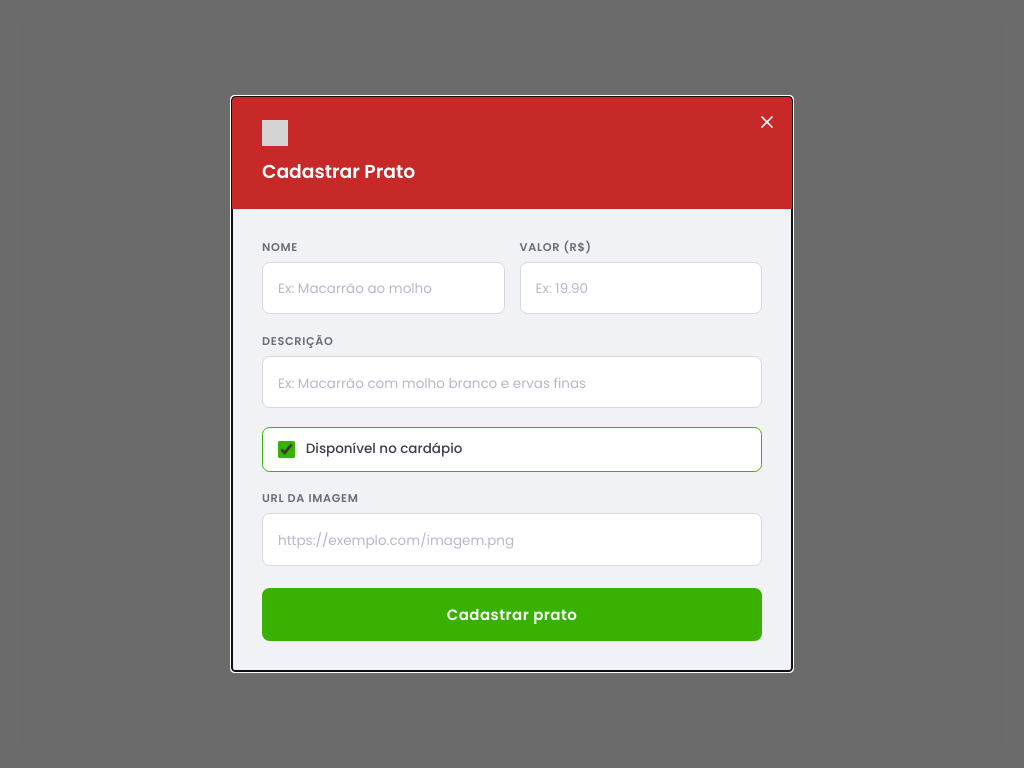
Test case: FoodFormModal — validação › deve exibir erro quando o preço for zero
Type "0" into the number field labelled "Valor (R$)" at (641,288), box [520,262,762,314]
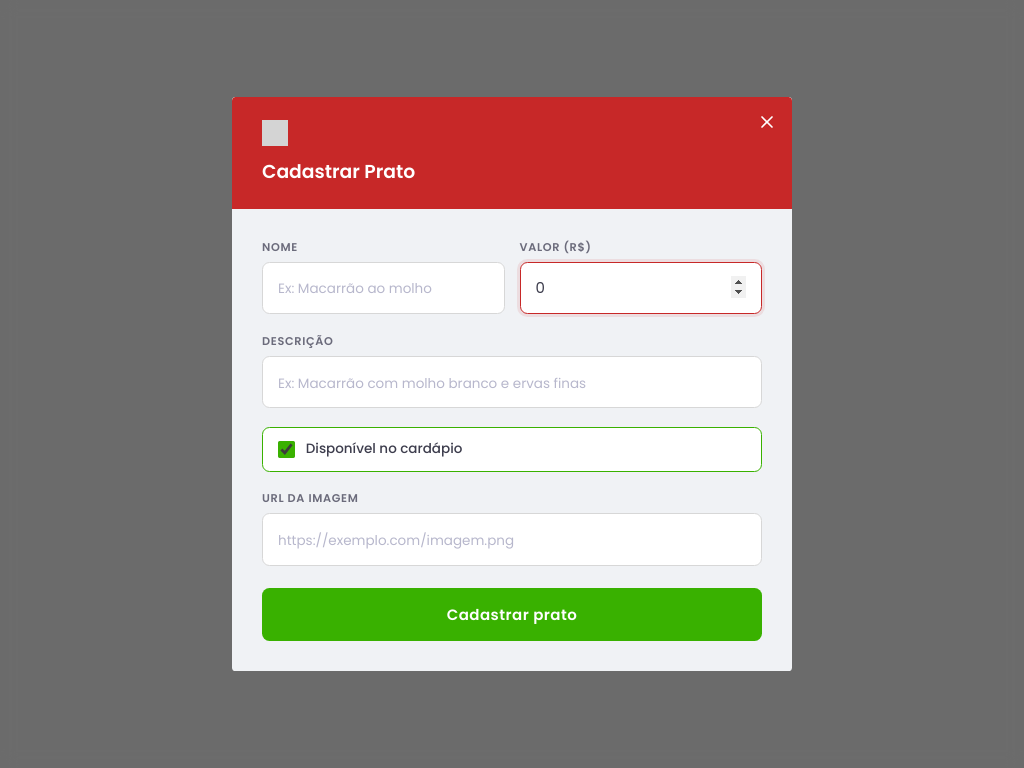
Click the button "Cadastrar prato" at (512,615), box [262,588,762,641]
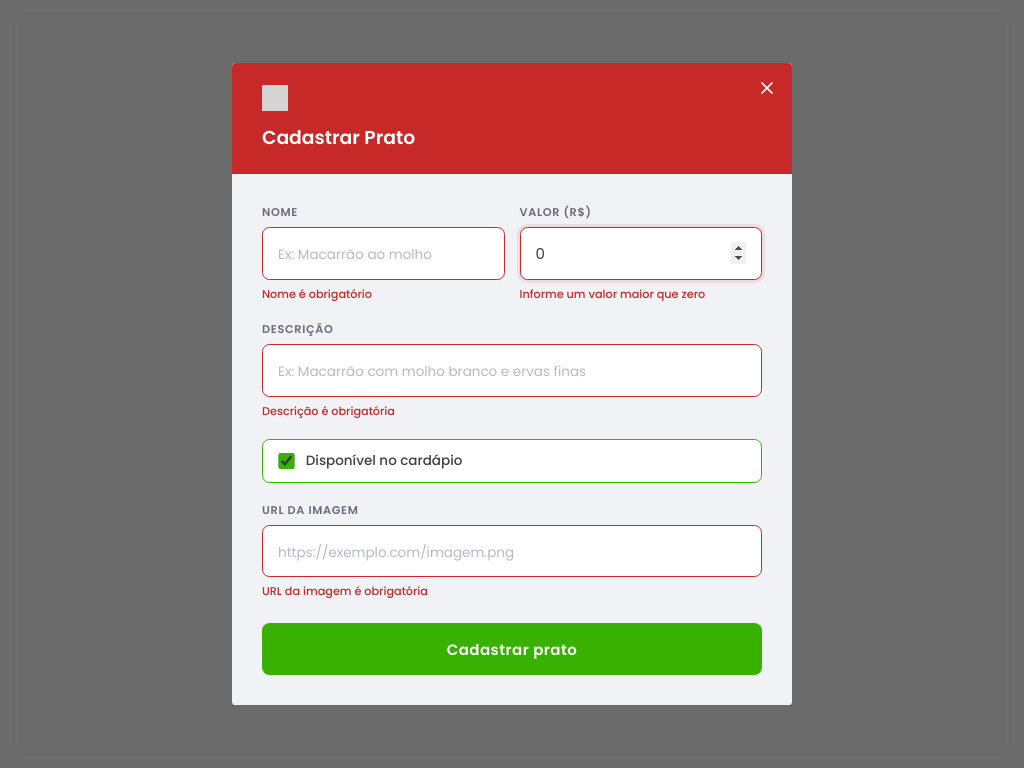
Check: the text "Informe um valor maior que zero" is shown, box [520,286,705,302]
